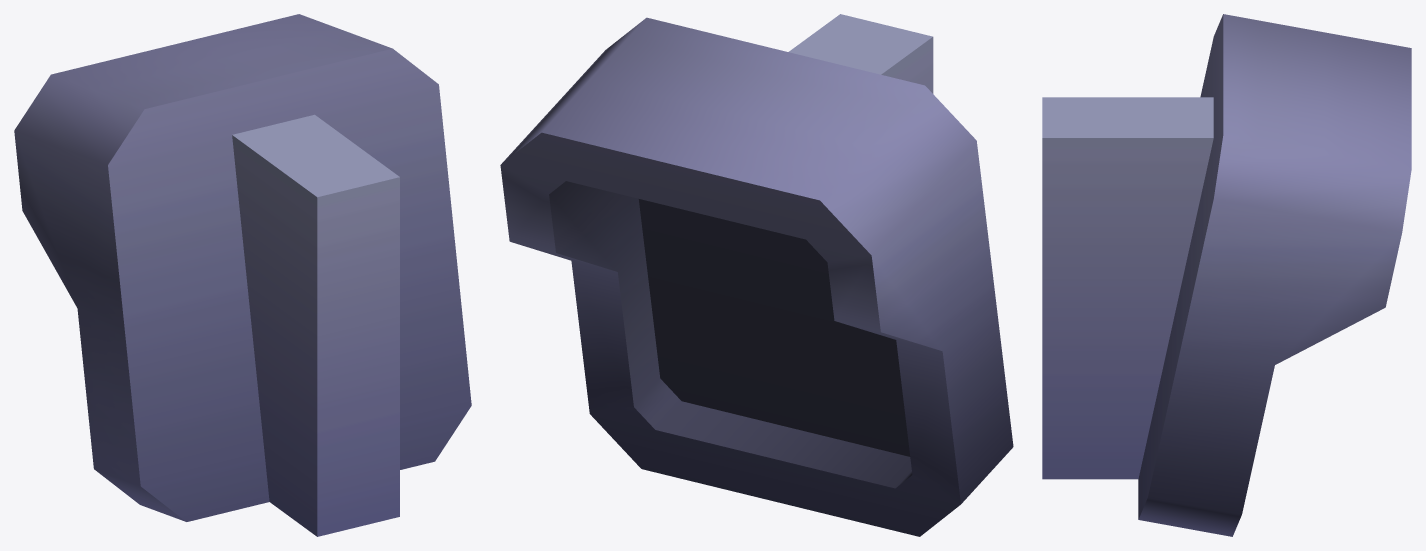
The model's file is kenney-conveyor-screen-hanging-small.glb.
3 renders of one model, left to right at view 1: azimuth 30°, elevation 25°; view 2: azimuth 150°, elevation 25°; view 3: azimuth 270°, elevation 25°, orthographic. The views are drawn at different scales.
Visible parts, largest first — view 1: screen-hanging-small; view 2: screen-hanging-small; view 3: screen-hanging-small.
Boxes of the visible parts, x1,y1,x2,y2 form: screen-hanging-small: (14,14,471,536); screen-hanging-small: (500,14,1013,536); screen-hanging-small: (1042,14,1411,536).
Bounding box in the file's own units: 0.6 × 0.6913 × 0.5765.
1 material, 1 textured.
